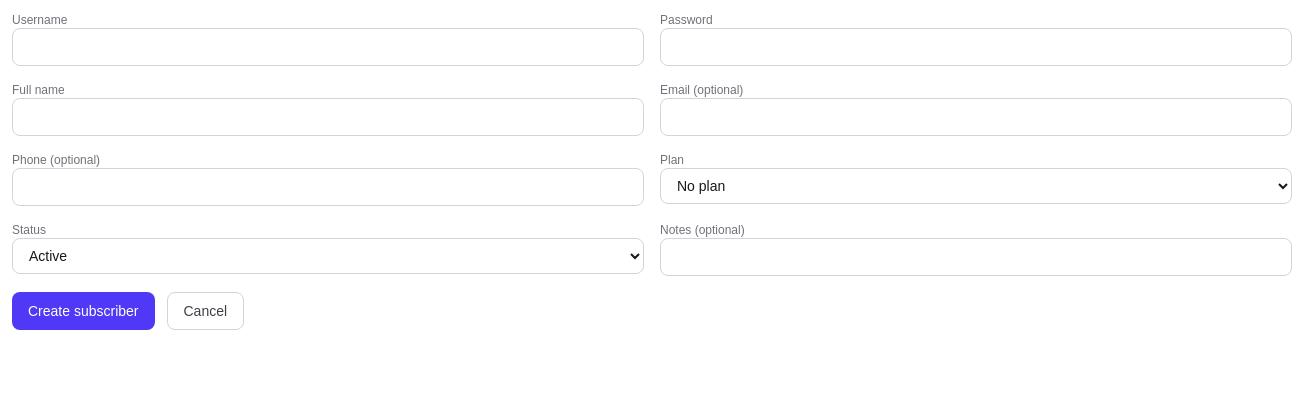
SubscriberForm (create) › shows the backend error and stays on the form
Type "bob" into the field labelled "Username" at (328, 47), box [12,28,644,66]
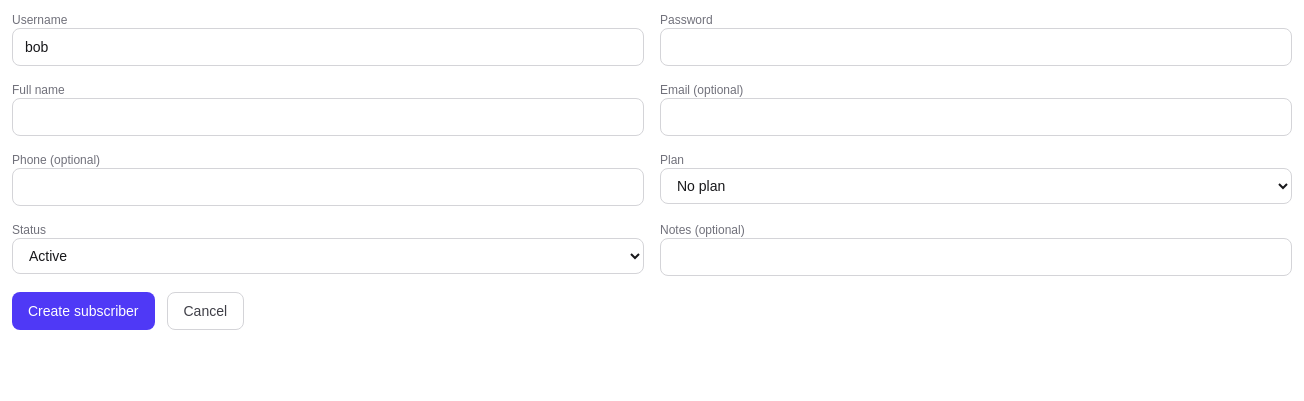
Type "radpass123" into the password field labelled "Password" at (976, 47), box [660,28,1292,66]
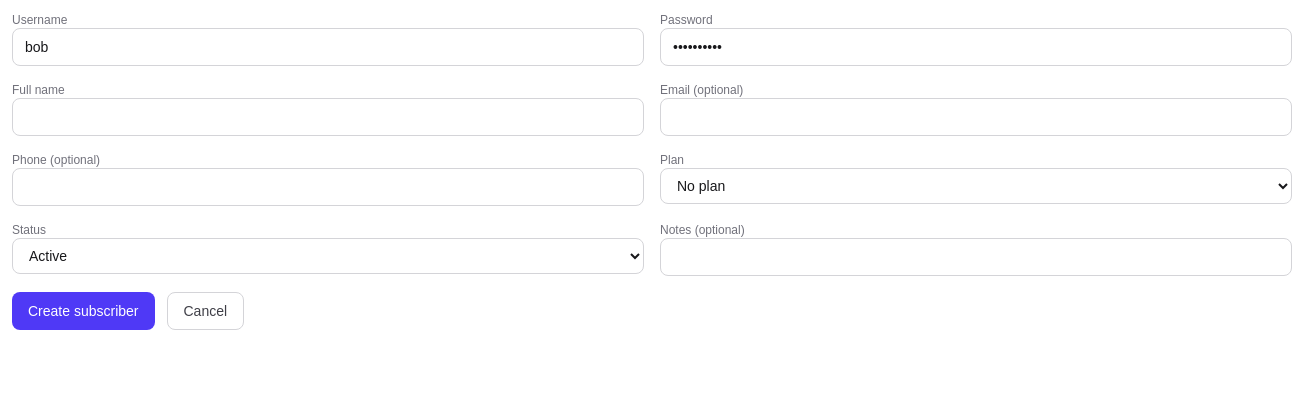
Type "Bob Again" into the field labelled "Full name" at (328, 117), box [12,98,644,136]
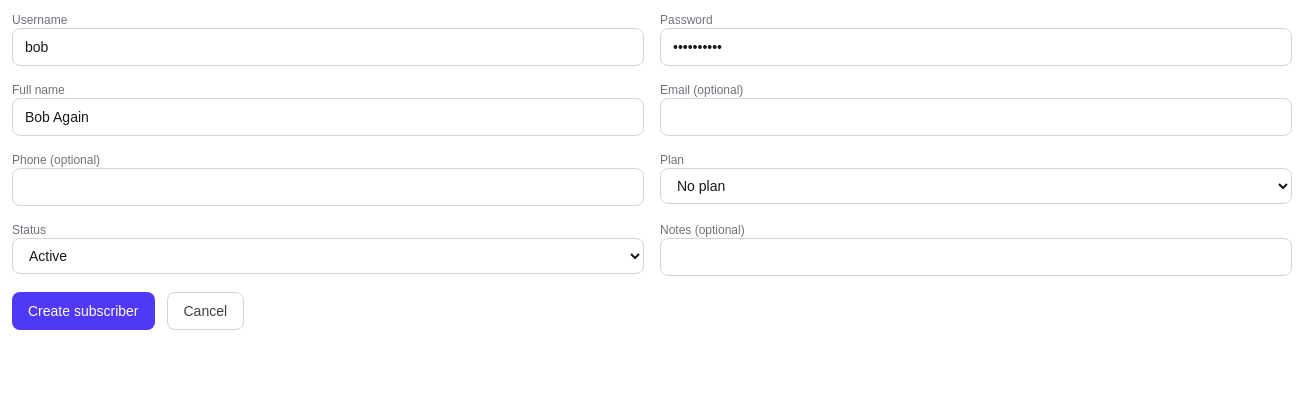
Click the button "Create subscriber" at (83, 311), box [12,292,154,330]
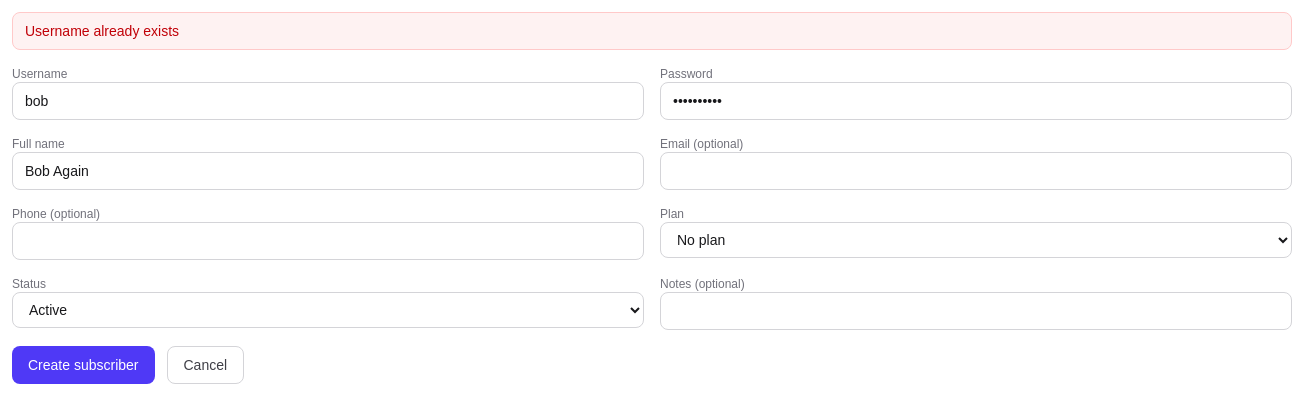
Check: the message reads "Username already exists", box [25,23,179,39]
